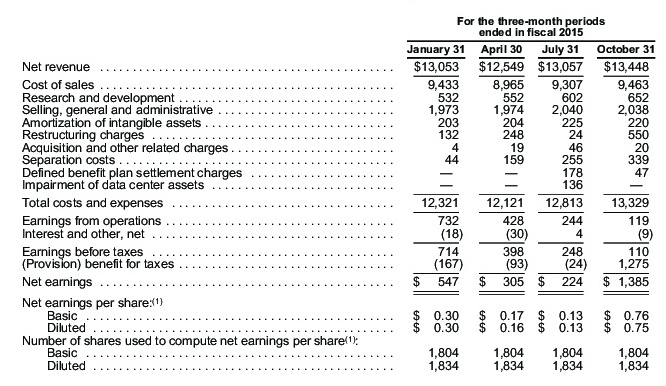table: (0, 0, 666, 386)
